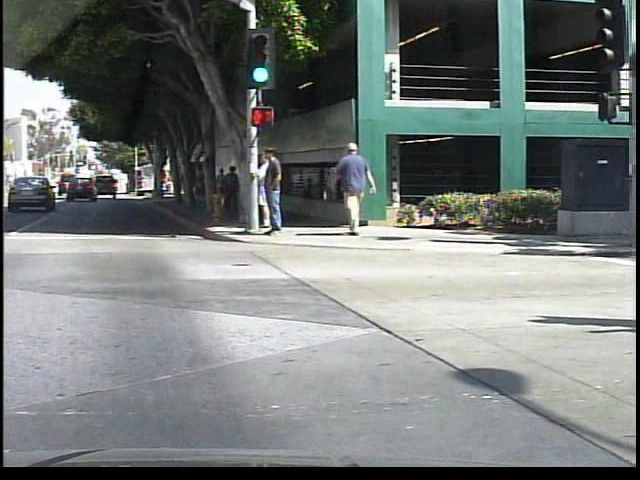person: (333, 139, 381, 237), (252, 140, 291, 243), (249, 147, 278, 229), (226, 164, 246, 218)
